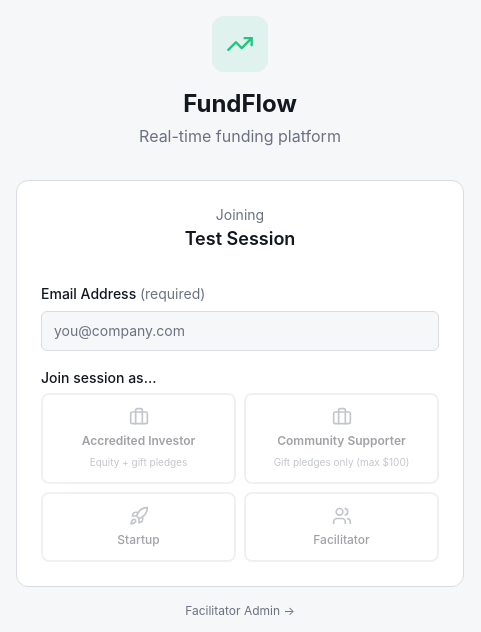
Test case: Login Page — manual flows › shows password step for facilitator with existing credentials
The image size is (481, 632).
expect the text "Test Session" is shown: met, box [185, 228, 295, 248]
In the field with placeholder "you@company.com": (240, 330) [41, 310, 439, 350], type "admin@test.com"
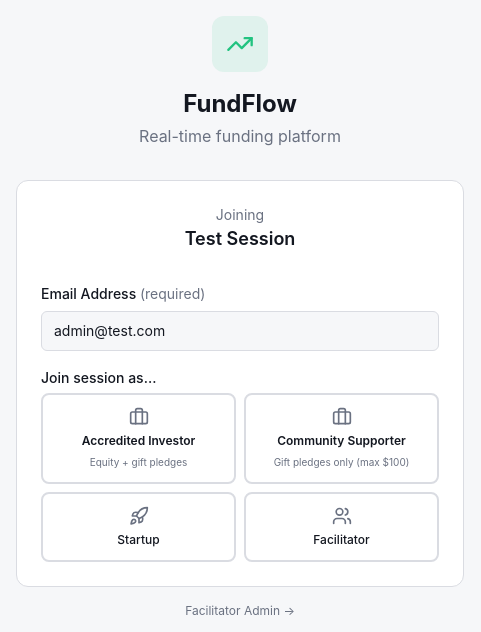
Click the button with test id "role-btn-facilitator": click(342, 526) [244, 492, 439, 562]
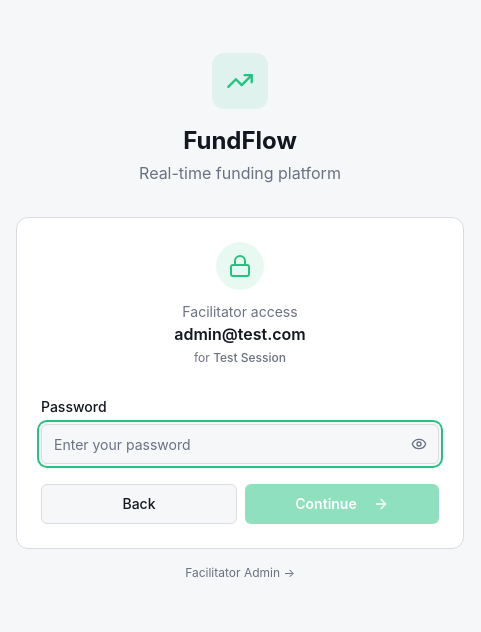
expect the password field with placeholder "Enter your password" is shown: met, box [41, 424, 439, 464]
